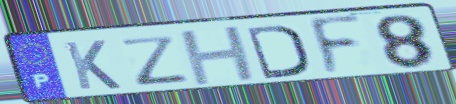8: (373, 12, 438, 71)
D: (243, 23, 311, 81)
F: (306, 13, 365, 80)
H: (177, 24, 261, 88)
K: (61, 38, 125, 92)
Z: (116, 33, 192, 87)
